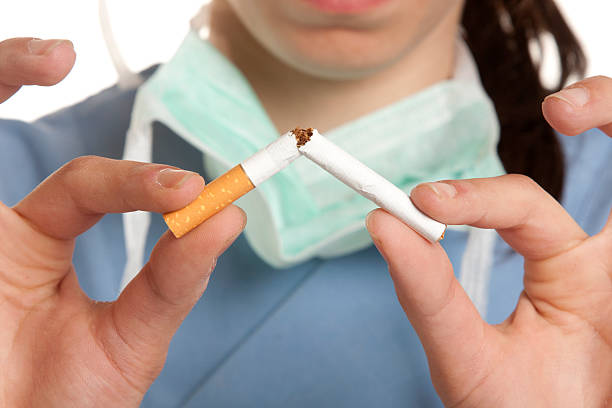cigarette: (295, 127, 449, 244), (163, 123, 307, 244)
